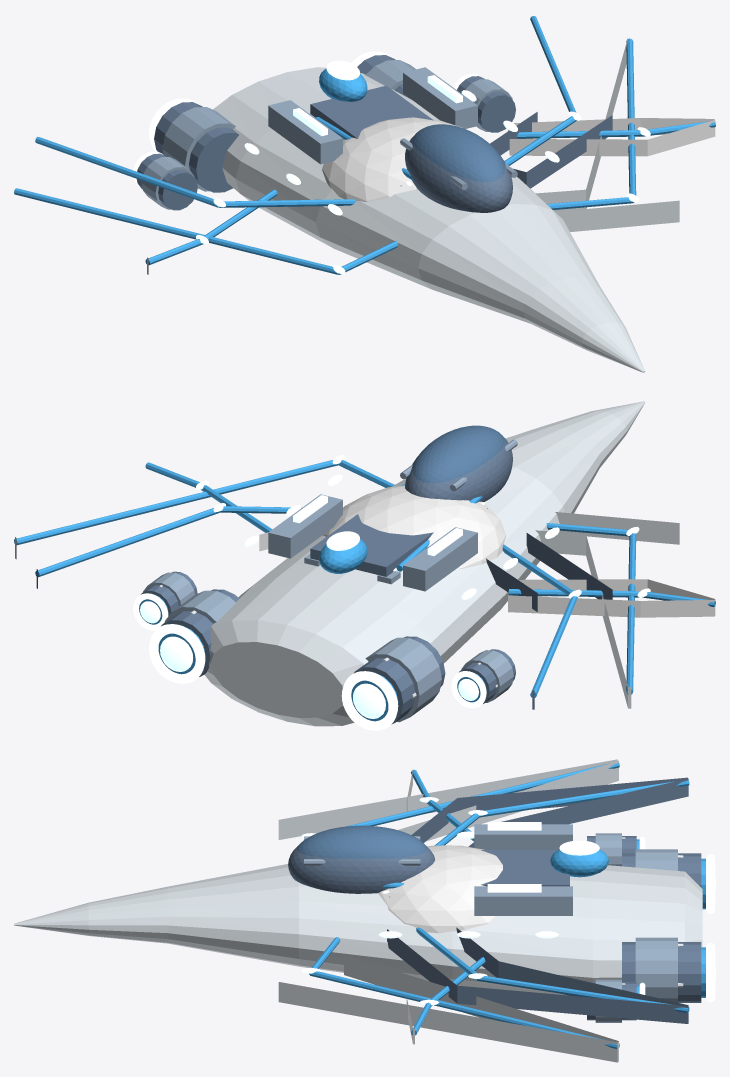
The model's file is SL_VALKYRIE_FINAL.glb.
3 views of the same model, one above another, from view 1: azimuth 30°, elevation 25°; view 2: azimuth 150°, elevation 25°; view 3: azimuth 270°, elevation 25° (orthographic). The views are drawn at different scales.
Parts seen in each view (by area): view 1: VALKYRIE_hull, VALKYRIE_dark, VALKYRIE_accent, VALKYRIE_ivory, VALKYRIE_steel, VALKYRIE_glass, VALKYRIE_neon, VALKYRIE_hot; view 2: VALKYRIE_hull, VALKYRIE_accent, VALKYRIE_dark, VALKYRIE_ivory, VALKYRIE_steel, VALKYRIE_neon, VALKYRIE_hot, VALKYRIE_glass; view 3: VALKYRIE_hull, VALKYRIE_dark, VALKYRIE_steel, VALKYRIE_accent, VALKYRIE_ivory, VALKYRIE_glass, VALKYRIE_neon, VALKYRIE_hot.
Boxes of the visible parts, bbox=[...] form: VALKYRIE_hull: bbox=[213, 38, 679, 372]; VALKYRIE_dark: bbox=[136, 55, 612, 212]; VALKYRIE_accent: bbox=[14, 16, 715, 274]; VALKYRIE_ivory: bbox=[147, 117, 715, 274]; VALKYRIE_steel: bbox=[141, 60, 517, 209]; VALKYRIE_glass: bbox=[412, 124, 504, 182]; VALKYRIE_neon: bbox=[196, 60, 650, 274]; VALKYRIE_hot: bbox=[133, 51, 480, 186]; VALKYRIE_hull: bbox=[15, 401, 679, 726]; VALKYRIE_accent: bbox=[14, 460, 715, 721]; VALKYRIE_dark: bbox=[36, 437, 612, 724]; VALKYRIE_ivory: bbox=[259, 485, 715, 617]; VALKYRIE_steel: bbox=[143, 439, 517, 722]; VALKYRIE_neon: bbox=[140, 455, 650, 718]; VALKYRIE_hot: bbox=[133, 502, 486, 730]; VALKYRIE_glass: bbox=[412, 425, 504, 483]; VALKYRIE_hull: bbox=[14, 759, 702, 1062]; VALKYRIE_dark: bbox=[288, 777, 701, 1023]; VALKYRIE_steel: bbox=[304, 824, 677, 1022]; VALKYRIE_accent: bbox=[309, 763, 705, 1049]; VALKYRIE_ivory: bbox=[378, 769, 502, 1044]; VALKYRIE_glass: bbox=[296, 825, 427, 859]; VALKYRIE_neon: bbox=[301, 797, 715, 1005]; VALKYRIE_hot: bbox=[382, 836, 715, 1002].
Bounding box in the file's own units: 6.62 × 1.65 × 6.91.
